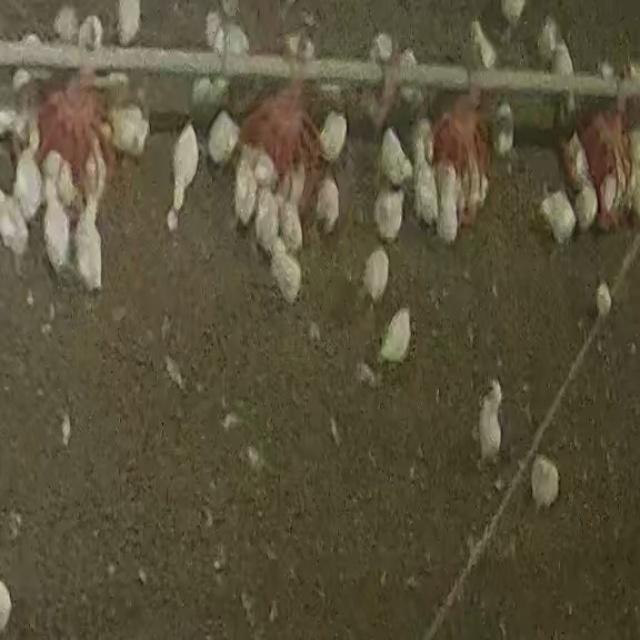chicken: (41, 178, 71, 276), (73, 199, 104, 290), (13, 138, 44, 219), (172, 123, 199, 211), (110, 102, 152, 158), (270, 236, 303, 306), (539, 187, 577, 246), (477, 381, 504, 463), (413, 138, 438, 225), (0, 190, 30, 262), (249, 190, 282, 255), (372, 184, 406, 244), (229, 152, 257, 223), (379, 308, 413, 366), (550, 40, 576, 114), (207, 109, 241, 165), (435, 163, 459, 241), (48, 149, 78, 210), (379, 126, 410, 185), (530, 454, 560, 511), (314, 172, 342, 233), (318, 110, 350, 163), (572, 172, 600, 232), (362, 248, 390, 302), (85, 140, 108, 203), (470, 20, 498, 69), (191, 76, 225, 115), (282, 161, 307, 213), (115, 0, 142, 43), (537, 17, 559, 60)
